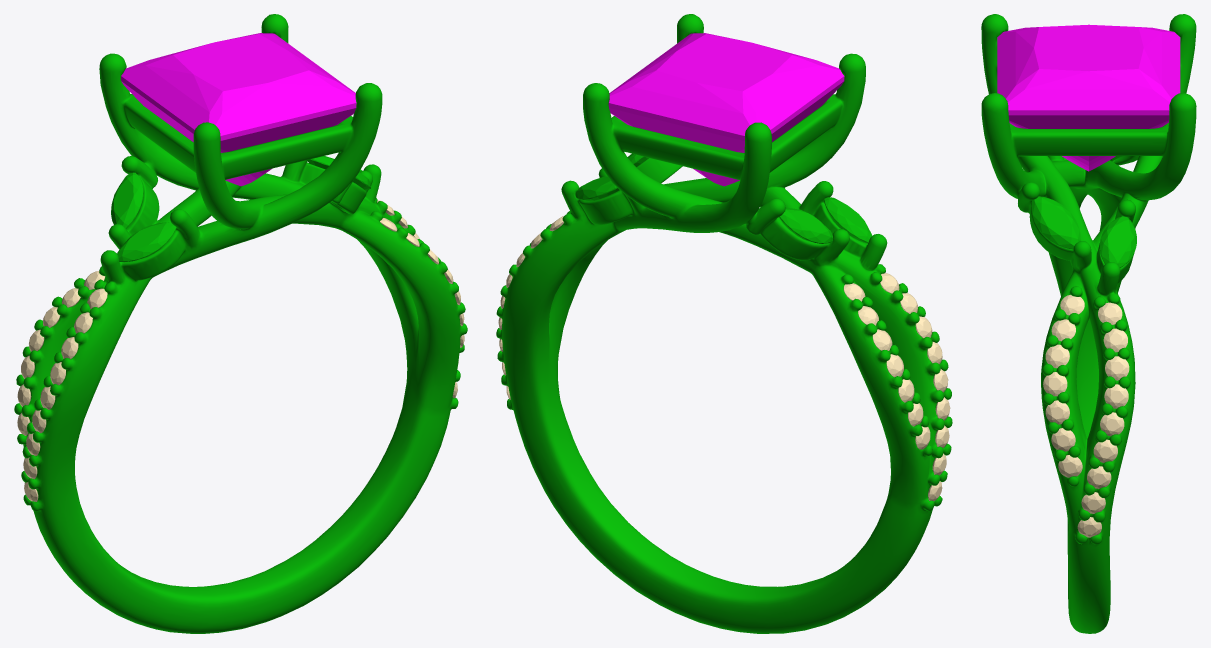
File: BE1LCE1548_PR_200ct_RENDER.glb
3 views of the same model, side by side, from view 1: azimuth 30°, elevation 25°; view 2: azimuth 150°, elevation 25°; view 3: azimuth 270°, elevation 25° (orthographic).
Visible parts, largest first — view 1: Metal 01, CS_Diamond_Princess, Emerald_Marquise_side.002, Emerald_Marquise_side.003; view 2: Metal 01, CS_Diamond_Princess, Emerald_Marquise_side.003, Emerald_Marquise_side.002, Emerald_Marquise_side; view 3: Metal 01, CS_Diamond_Princess, Emerald_Marquise_side.001, Emerald_Marquise_side, Diamond_Round_Gem_SH.005, Diamond_Round_Gem_SH.003, Diamond_Round_Gem_SH.004, Diamond_Round_Gem_SH.002, Diamond_Round_Gem_SH.010, Diamond_Round_Gem_SH.006, Diamond_Round_Gem_SH.009, Diamond_Round_Gem_SH.001 (+8 smaller).
Boxes of the visible parts, x1,y1,x2,y2 form: Metal 01: (14, 14, 467, 633); CS_Diamond_Princess: (121, 33, 356, 186); Emerald_Marquise_side.002: (117, 222, 176, 261); Emerald_Marquise_side.003: (111, 172, 143, 228); Metal 01: (496, 14, 952, 633); CS_Diamond_Princess: (608, 33, 844, 186); Emerald_Marquise_side.003: (779, 208, 832, 243); Emerald_Marquise_side.002: (824, 197, 872, 243); Emerald_Marquise_side: (575, 176, 619, 201); Metal 01: (981, 14, 1196, 633); CS_Diamond_Princess: (997, 24, 1180, 171); Emerald_Marquise_side.001: (1031, 196, 1080, 249); Emerald_Marquise_side: (1099, 216, 1136, 267); Diamond_Round_Gem_SH.005: (1045, 400, 1069, 424); Diamond_Round_Gem_SH.003: (1105, 356, 1129, 380); Diamond_Round_Gem_SH.004: (1104, 384, 1128, 408); Diamond_Round_Gem_SH.002: (1043, 372, 1067, 396); Diamond_Round_Gem_SH.010: (1100, 412, 1124, 436); Diamond_Round_Gem_SH.006: (1051, 428, 1075, 451); Diamond_Round_Gem_SH.009: (1103, 328, 1127, 352); Diamond_Round_Gem_SH.001: (1045, 344, 1069, 368).
Size of the model in its own units: 20.63 by 25.45 by 8.81.
